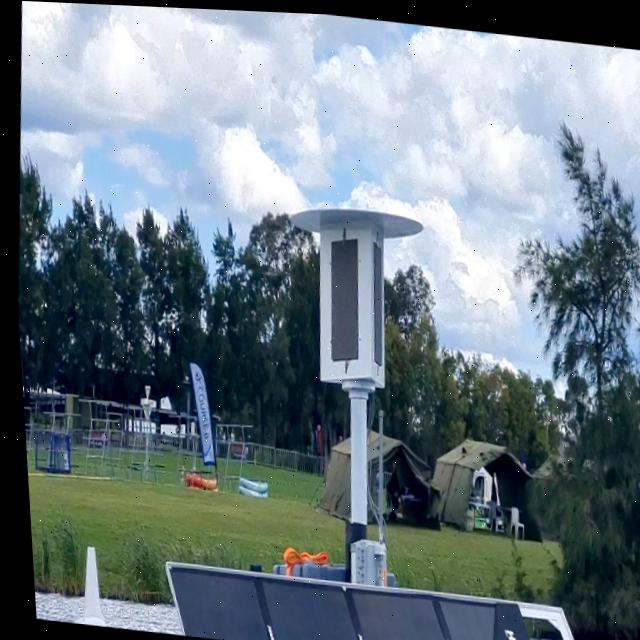led: (311, 223, 373, 372)
